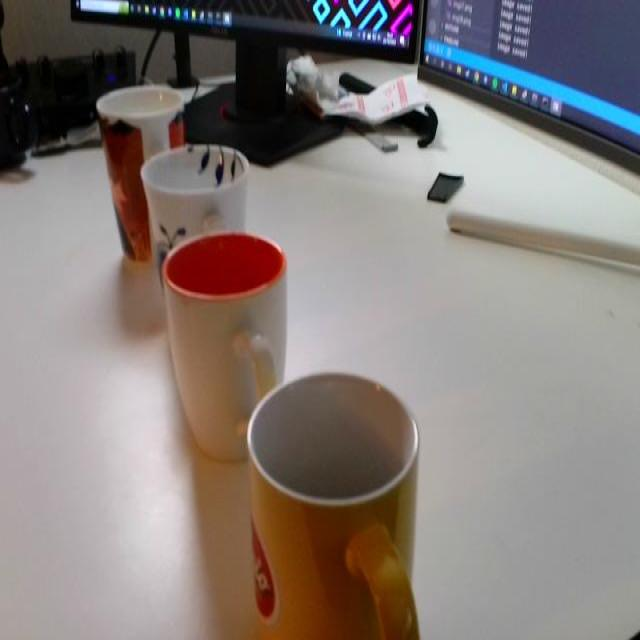cup: (233, 356, 452, 640), (156, 212, 300, 469), (136, 117, 264, 303), (80, 82, 182, 238)
